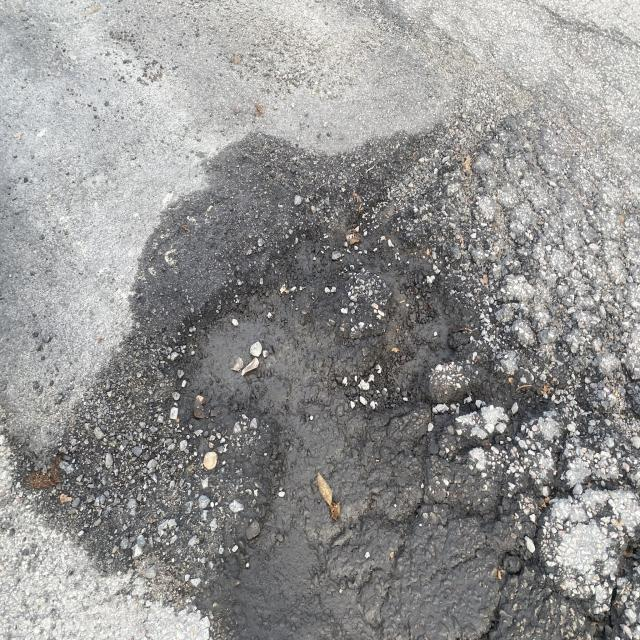Pothole: (157, 210, 640, 640)
